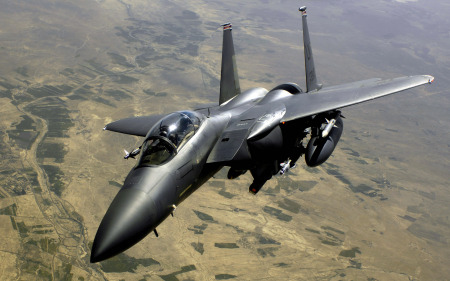airplane: (82, 5, 435, 263)
